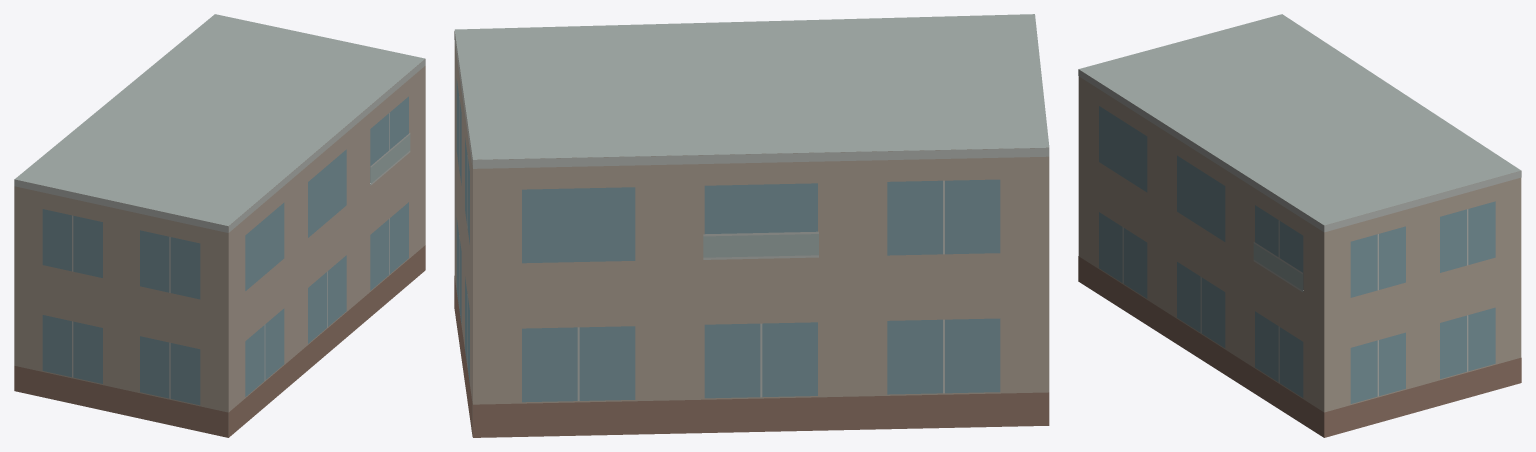
The model's file is survey-upis-32619350.glb.
3 renders of one model, left to right at view 1: azimuth 30°, elevation 25°; view 2: azimuth 150°, elevation 25°; view 3: azimuth 270°, elevation 25°, orthographic. The views are drawn at different scales.
Parts seen in each view (by area): view 1: survey-upis-32619350.tmp; view 2: survey-upis-32619350.tmp; view 3: survey-upis-32619350.tmp.
Boxes of the visible parts, left/top/right/bottom form: survey-upis-32619350.tmp: left=14, top=14, right=425, bottom=437; survey-upis-32619350.tmp: left=454, top=14, right=1049, bottom=437; survey-upis-32619350.tmp: left=1078, top=14, right=1521, bottom=437.
Size of the model in its own units: 16.03 by 7.5 by 14.19.
